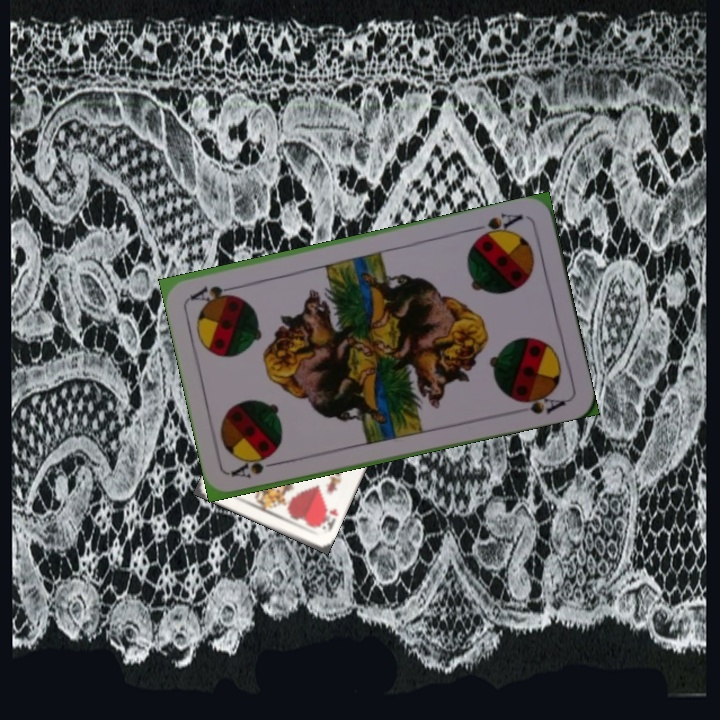HK: (314, 504, 341, 535)
SA: (470, 209, 526, 242), (227, 452, 286, 481)
